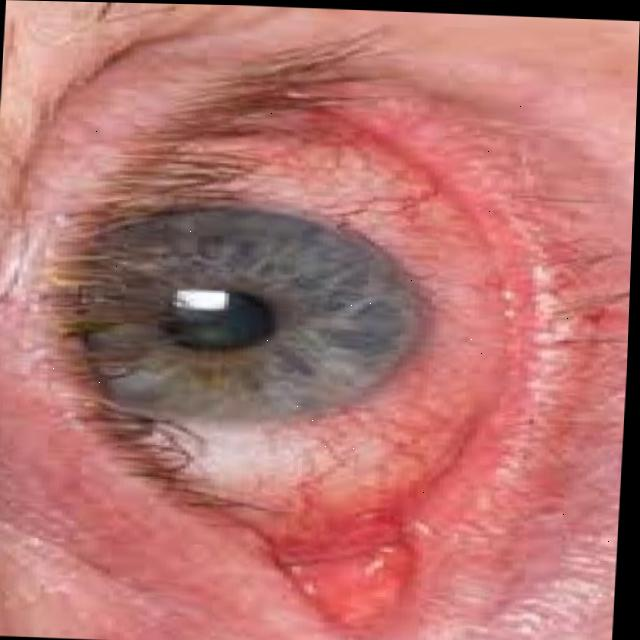Rosacea: (0, 100, 528, 595)
